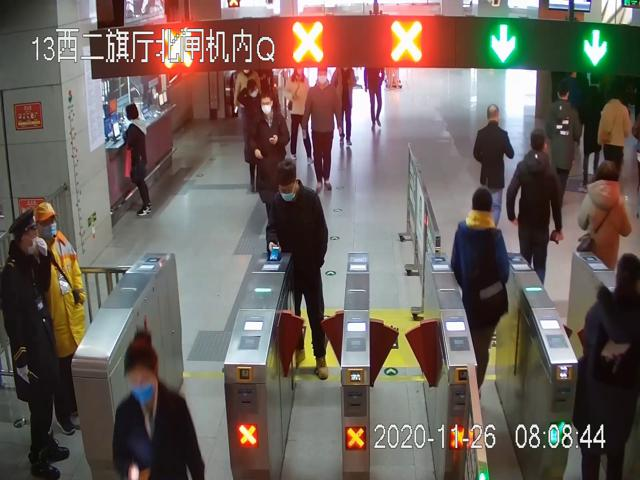person: (2, 208, 71, 478), (267, 160, 330, 380), (453, 187, 509, 384), (250, 92, 290, 228), (474, 104, 515, 234), (304, 65, 341, 194), (123, 104, 152, 216)
